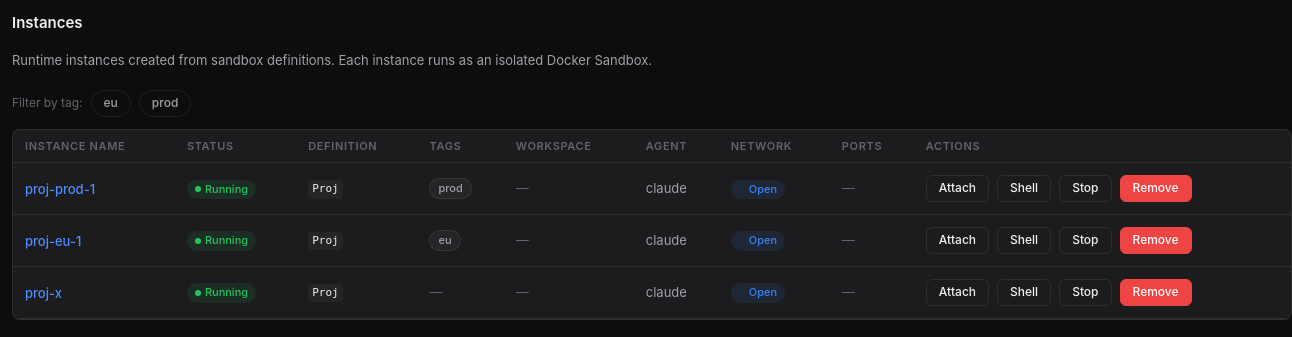
Scenario: Instances tag filter › filters rows to instances having the selected tag (OR)
# The filter bar exposes a toggle per distinct tag.
Click the button with aria-label "Filter tag prod". click: (165, 103)
box: [139,90,191,117]
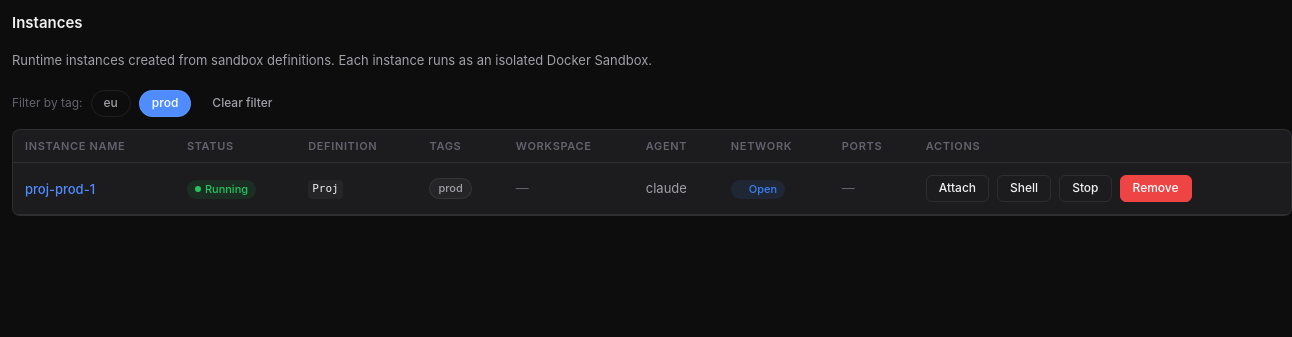
expect the text "proj-prod-1" is shown: met, box [25,181,95,197]
expect the button "proj-eu-1" is gone: met
expect the button "proj-x" is gone: met
